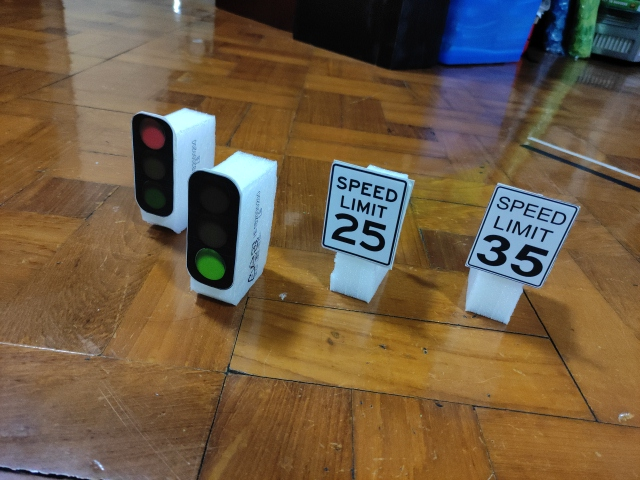Green Traffic Light: (185, 170, 241, 291)
Red Traffic Light: (130, 111, 177, 217)
Speed Limit 25: (321, 163, 407, 266)
Speed Limit 35: (466, 185, 577, 287)
